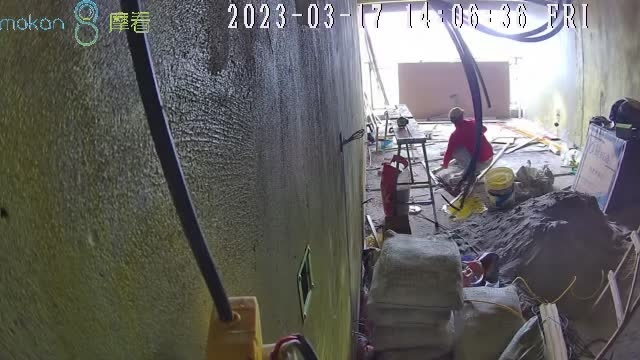people: (443, 106, 494, 178)
window: (362, 12, 525, 113)
